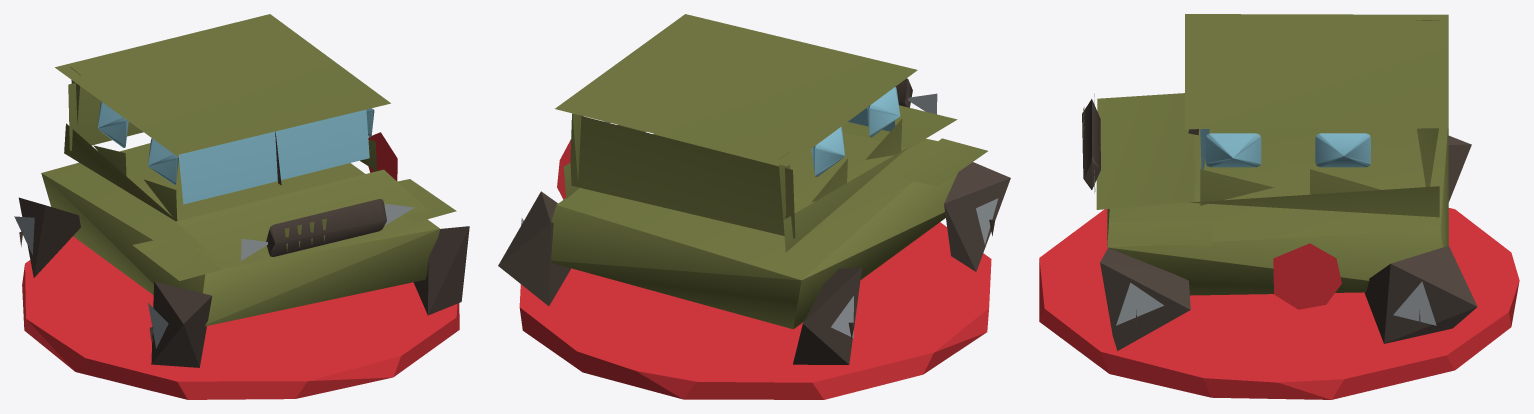
The model's file is japan_militia_lod1.glb.
The picture shows the model from 3 angles, left to right: view 1: azimuth 30°, elevation 25°; view 2: azimuth 150°, elevation 25°; view 3: azimuth 270°, elevation 25°; orthographic projection. The views are drawn at different scales.
Visible parts, largest first — view 1: body_hull, base_pedestal; view 2: body_hull, base_pedestal; view 3: body_hull, base_pedestal.
Part boxes in pixels (x1=…): body_hull: x1=14, y1=14, x2=469, y2=367; base_pedestal: x1=22, y1=236, x2=459, y2=399; body_hull: x1=498, y1=14, x2=1010, y2=364; base_pedestal: x1=519, y1=222, x2=991, y2=399; body_hull: x1=1082, y1=14, x2=1477, y2=350; base_pedestal: x1=1039, y1=208, x2=1519, y2=399.
Bounding box in the file's own units: 0.7751 × 0.4059 × 0.7751.
